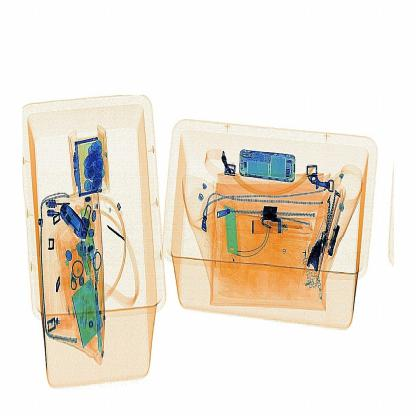pliers: (218, 192, 247, 286)
